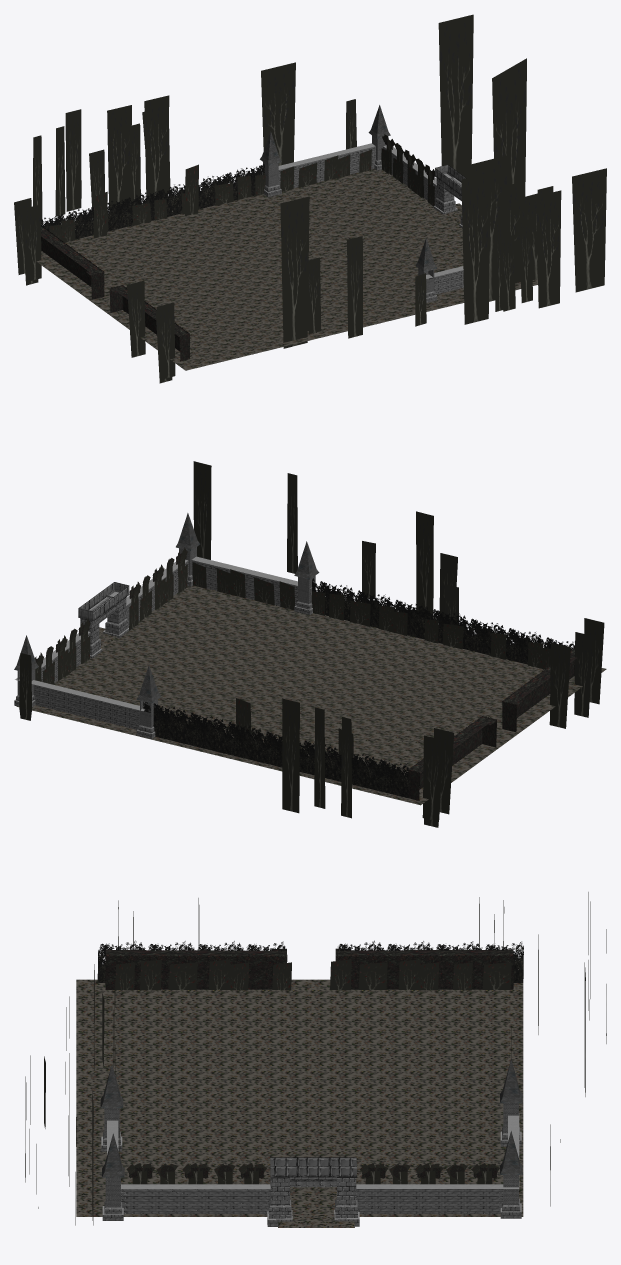
Rendered from cgc_fairway.fbx.
3 renders of one model, top to bottom at view 1: azimuth 30°, elevation 25°; view 2: azimuth 150°, elevation 25°; view 3: azimuth 270°, elevation 25°, orthographic. The views are drawn at different scales.
Visible parts, largest first — view 1: ground, pPlane392, pPlane271, pPlane420, pPlane269, pPlane50, closebushes1, pPlane394, pPlane308, pPlane397, pPlane418, pPlane274 (+28 smaller); view 2: ground, closebushes1, closebushes, polySurface34, polySurface47, pPlane395, polySurface37, pPlane310, polySurface36, pPlane351, pPlane423, pPlane425 (+14 smaller); view 3: ground, polySurface34, polySurface47, polySurface36, polySurface37, pCube131, pPlane482 (×2), closebushes3, pPlane481 (×2), pPlane483 (×2), closebushes2, rooftower_6 (+10 smaller).
Boxes of the visible parts, x1,y1,x2,y2 form: ground: (36,169,537,370); pPlane392: (438,14,473,177); pPlane271: (461,172,490,324); pPlane420: (280,196,309,348); pPlane269: (572,168,606,292); pPlane50: (492,58,526,197); closebushes1: (40,164,264,239); pPlane394: (261,62,295,165); pPlane308: (536,190,561,308); pPlane397: (144,95,169,198); pPlane418: (107,105,131,210); pPlane274: (466,155,508,301); ground: (16,585,606,805); closebushes1: (143,701,408,797); closebushes: (312,578,574,675); polySurface34: (15,631,144,729); polySurface47: (126,556,311,627); pPlane395: (282,698,299,813); polySurface37: (408,716,496,800); pPlane310: (416,511,433,619); polySurface36: (502,648,576,731); pPlane351: (193,461,211,559); pPlane423: (549,642,570,728); pPlane425: (422,735,443,821); ground: (76,979,523,1216); polySurface34: (356,1114,519,1213); polySurface47: (107,1120,270,1213); polySurface36: (105,948,287,989); polySurface37: (335,948,513,989); pCube131: (270,1157,356,1177); pPlane482 (×2): (168,962,387,989); closebushes3: (337,940,523,982); pPlane481 (×2): (140,959,351,990); pPlane483 (×2): (208,959,420,989); closebushes2: (97,940,285,982); rooftower_6: (102,1133,124,1214).
Size of what is drawn, in the model's own units: 250 by 114 by 226.
